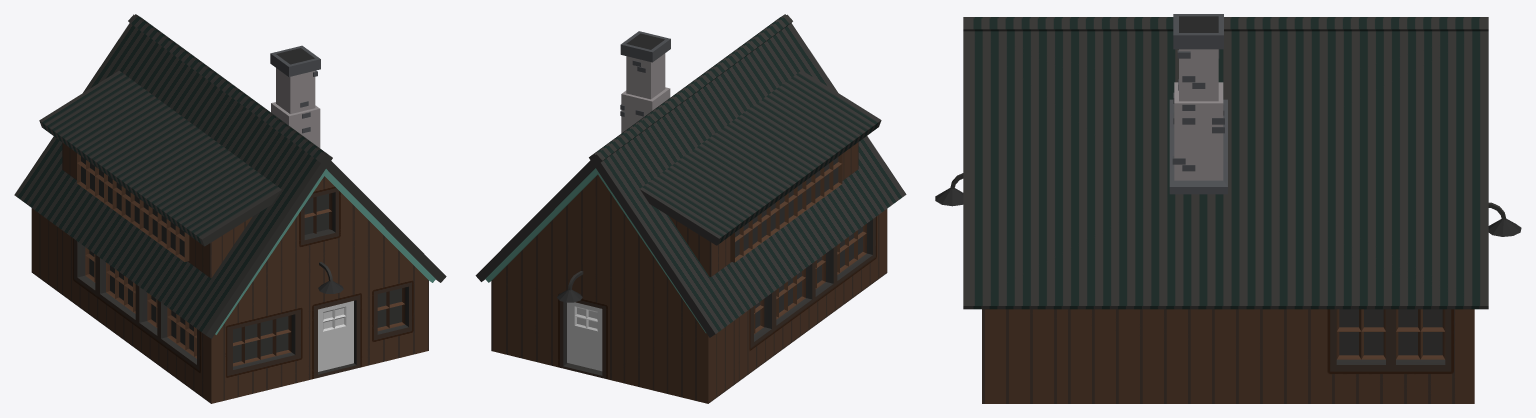
File: Cabin.fbx
3 renders of one model, left to right at view 1: azimuth 30°, elevation 25°; view 2: azimuth 150°, elevation 25°; view 3: azimuth 270°, elevation 25°, orthographic. The views are drawn at different scales.
Visible parts, largest first — view 1: Cabin, Door_1; view 2: Cabin, Door_2; view 3: Cabin.
Part boxes in pixels (x1,y1,x2,y2): Cabin: (14, 14, 446, 403); Door_1: (318, 301, 353, 371); Cabin: (475, 14, 906, 403); Door_2: (567, 302, 602, 371); Cabin: (935, 14, 1521, 403).
Bounding box in the file's own units: 77445 × 76757 × 118935.
